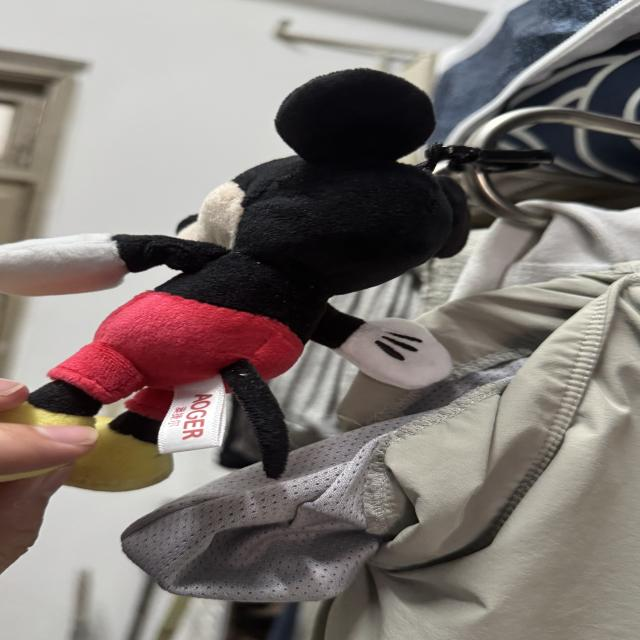mickey: (0, 70, 468, 490)
